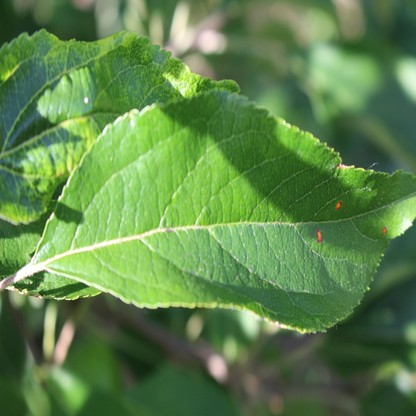rust: (317, 227, 322, 241), (381, 226, 388, 234), (336, 200, 341, 209)
